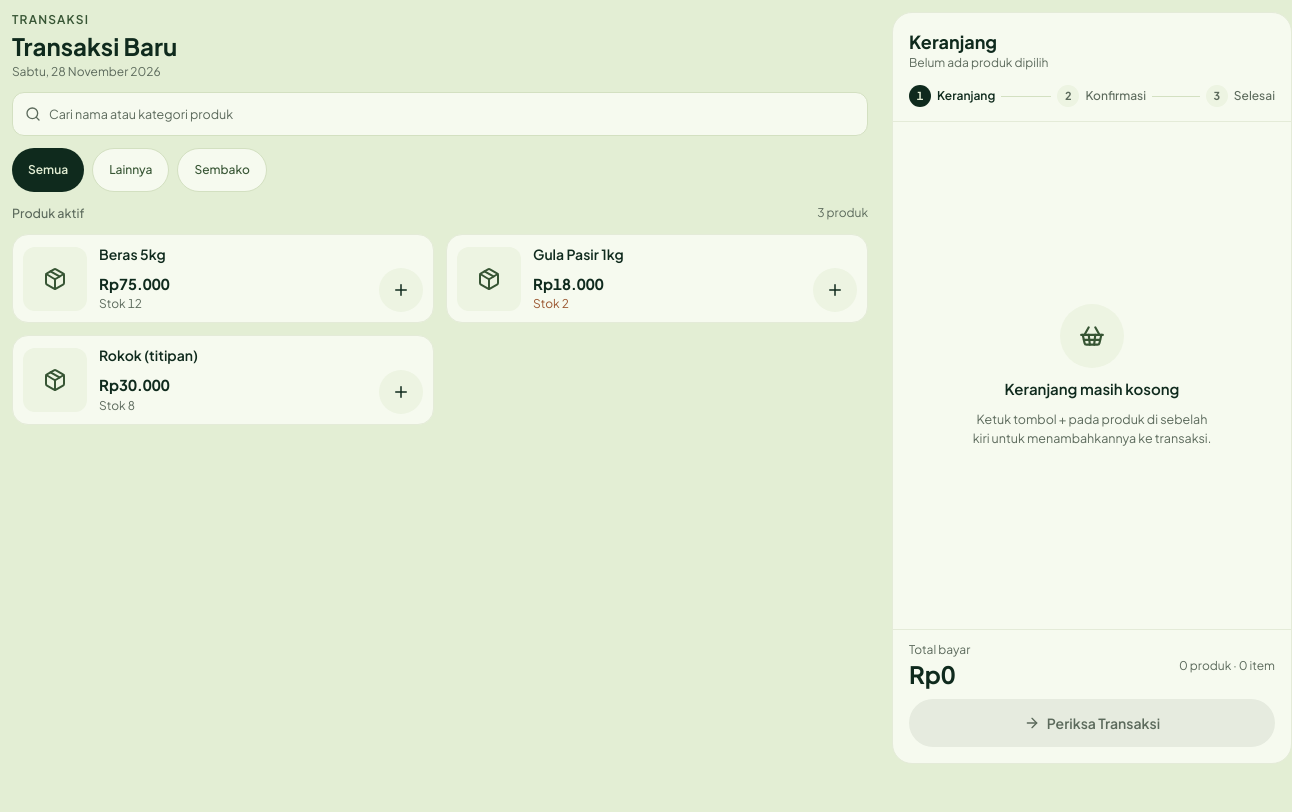
Test case: POS md+ (panel checkout) › utang di panel: nama pembeli wajib sebelum simpan
Step 1. Click the button named "Tambah Beras 5kg" → (401, 290), box [379, 268, 423, 312]
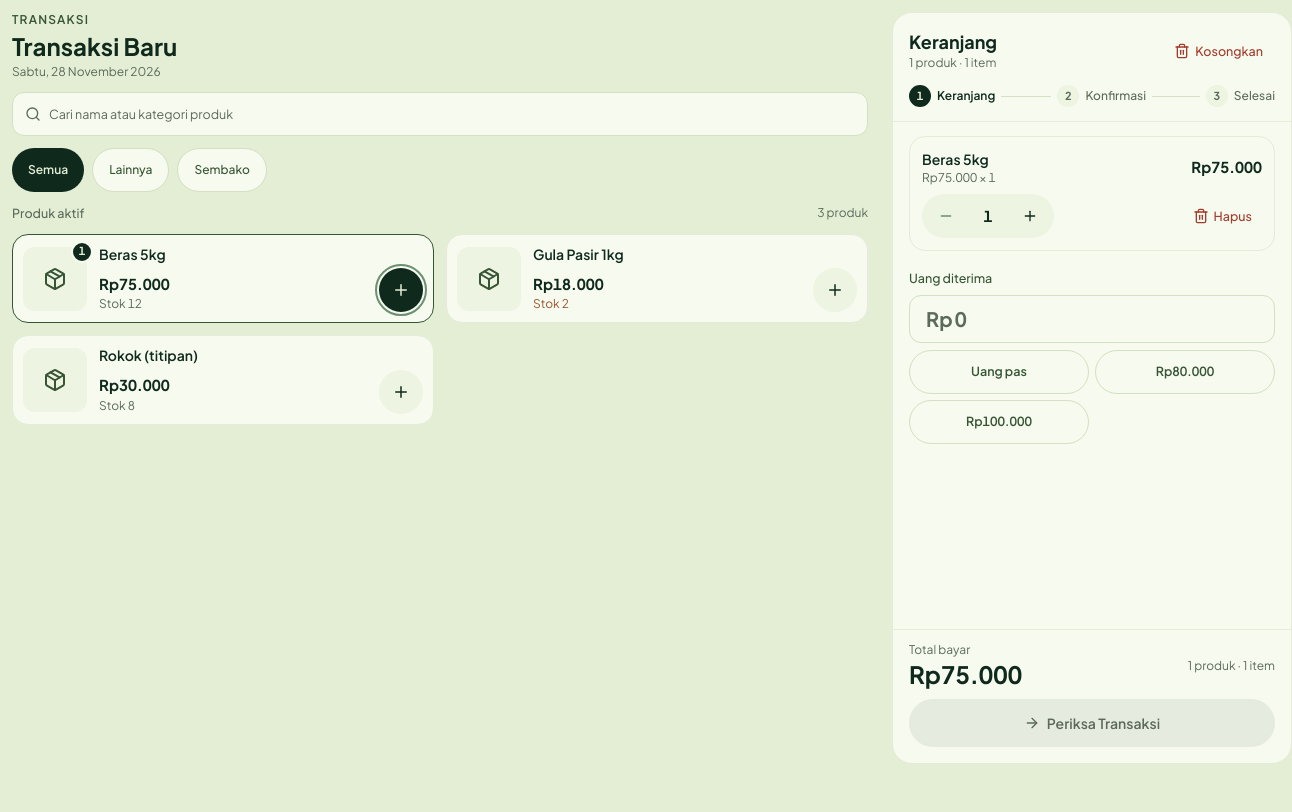
Step 2. Type "50000" into the field labelled "Uang diterima" → (1106, 319), box [955, 296, 1258, 342]
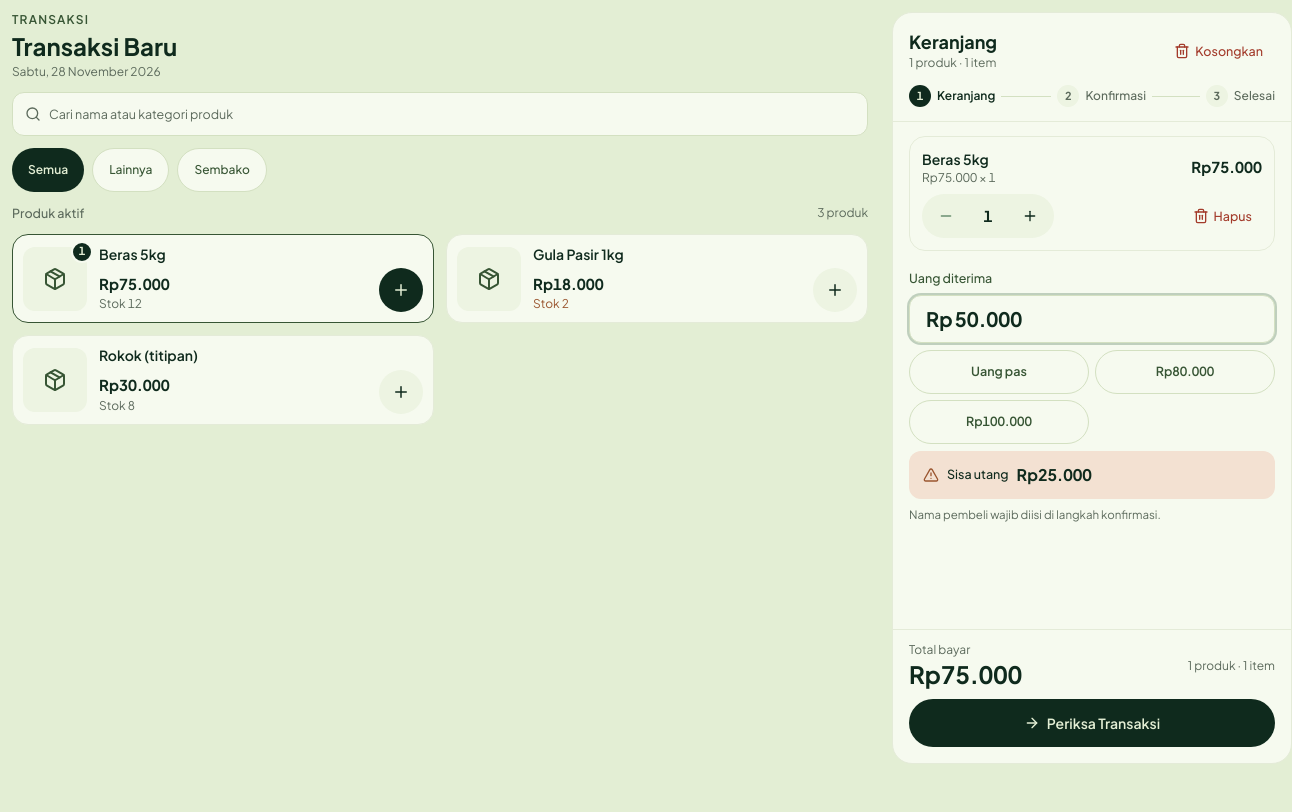
Expected: the text "Sisa utang" is shown, [947, 465, 1009, 484]
Step 3. Click the button "Periksa Transaksi" → (1092, 723), box [909, 699, 1275, 747]
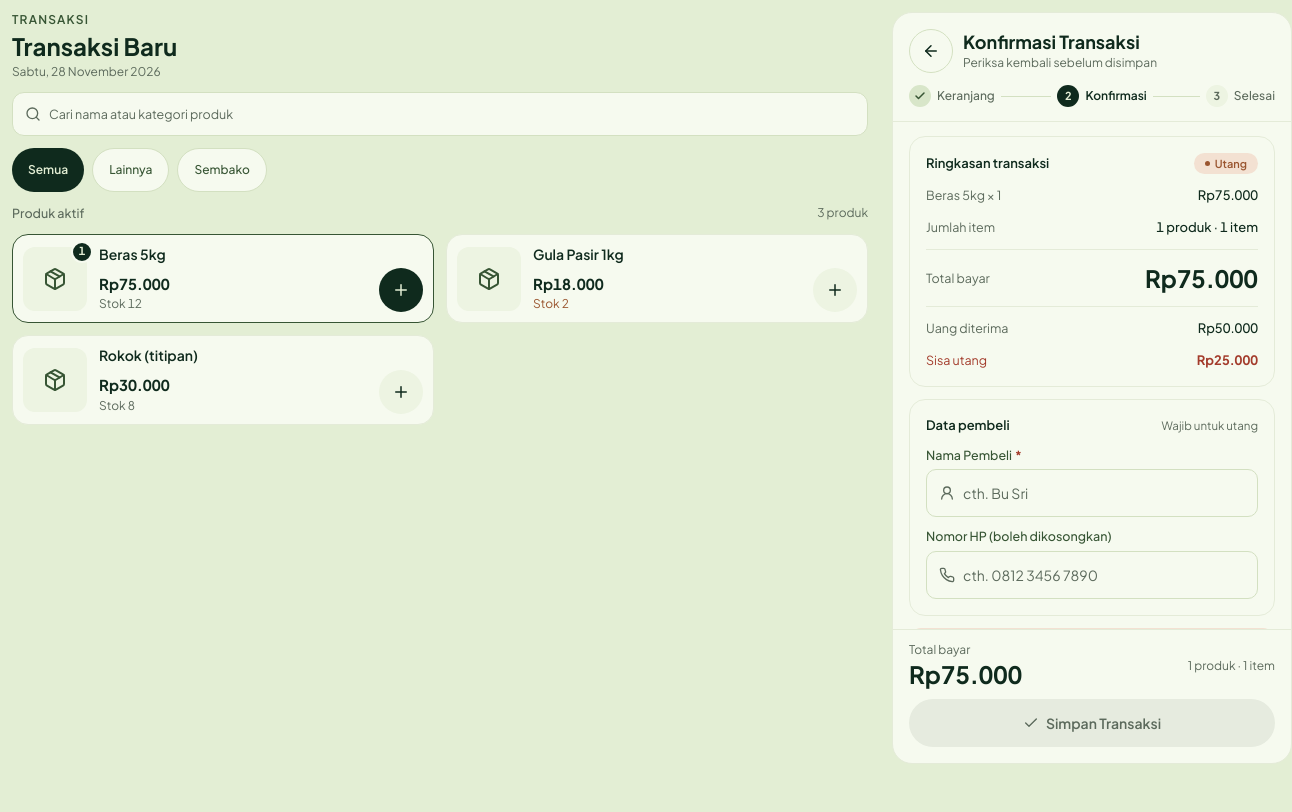
Step 4. Click the button "Simpan Transaksi" → (1092, 723), box [909, 699, 1275, 747]
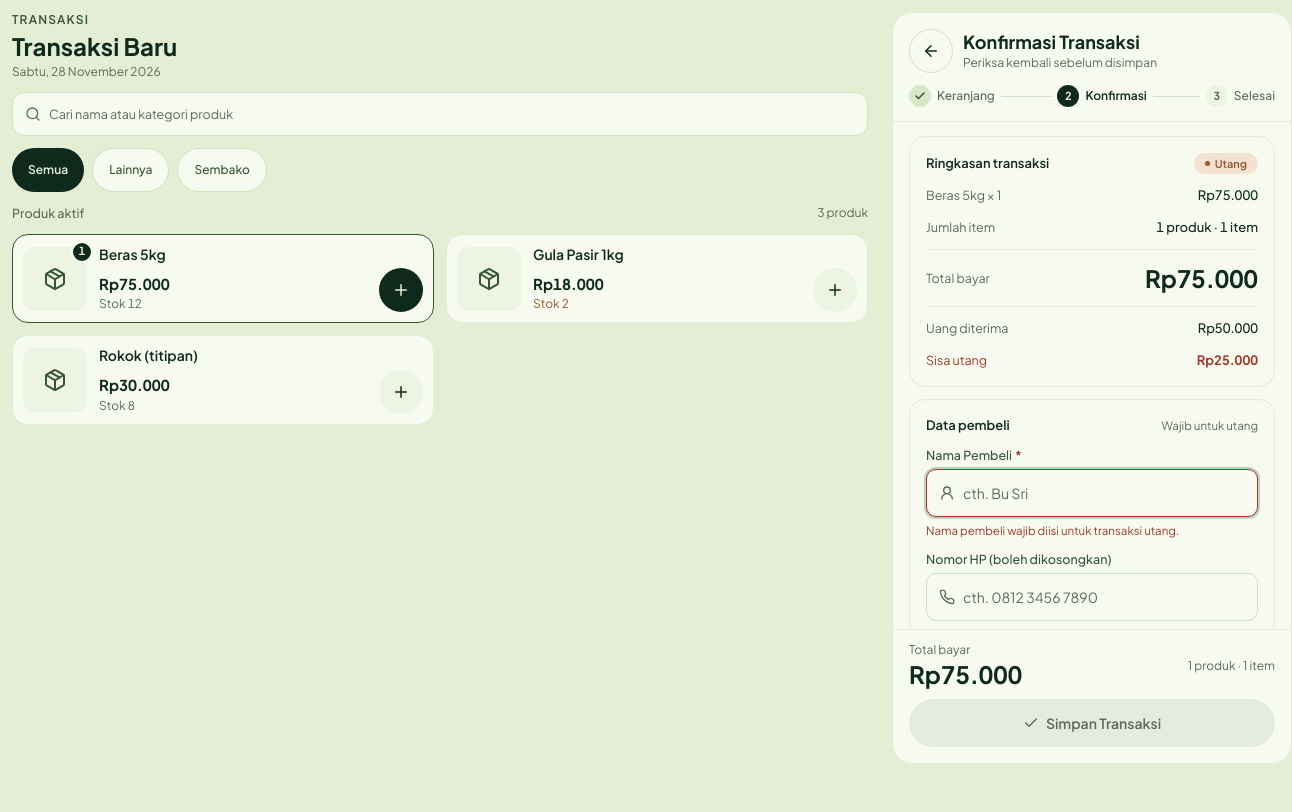
Expected: the text "Nama pembeli wajib diisi untuk transaksi utang." is shown, [926, 523, 1179, 538]
Step 5. Type "Pak Budi" into the field labelled "Nama Pembeli *" → (1104, 493), box [963, 470, 1245, 516]
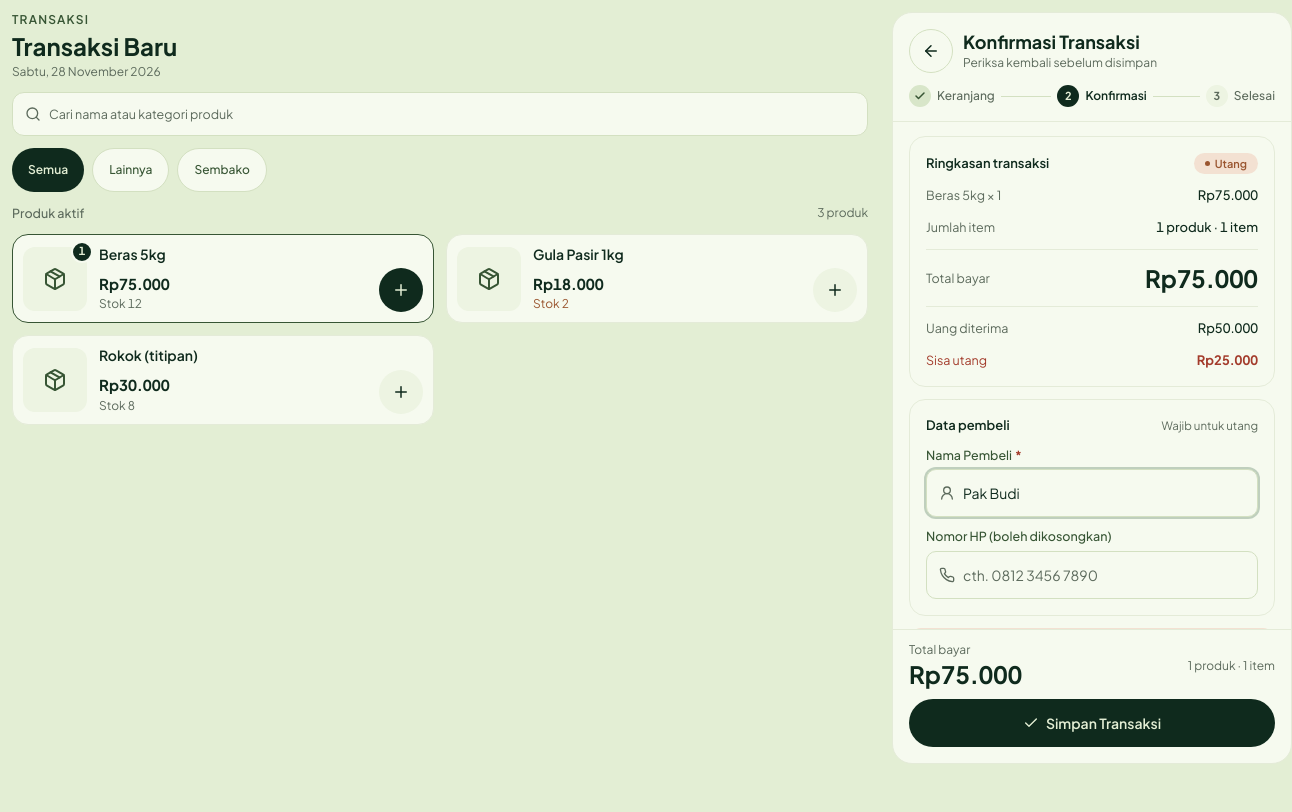
Step 6. Click the button "Simpan Transaksi" → (1092, 723), box [909, 699, 1275, 747]
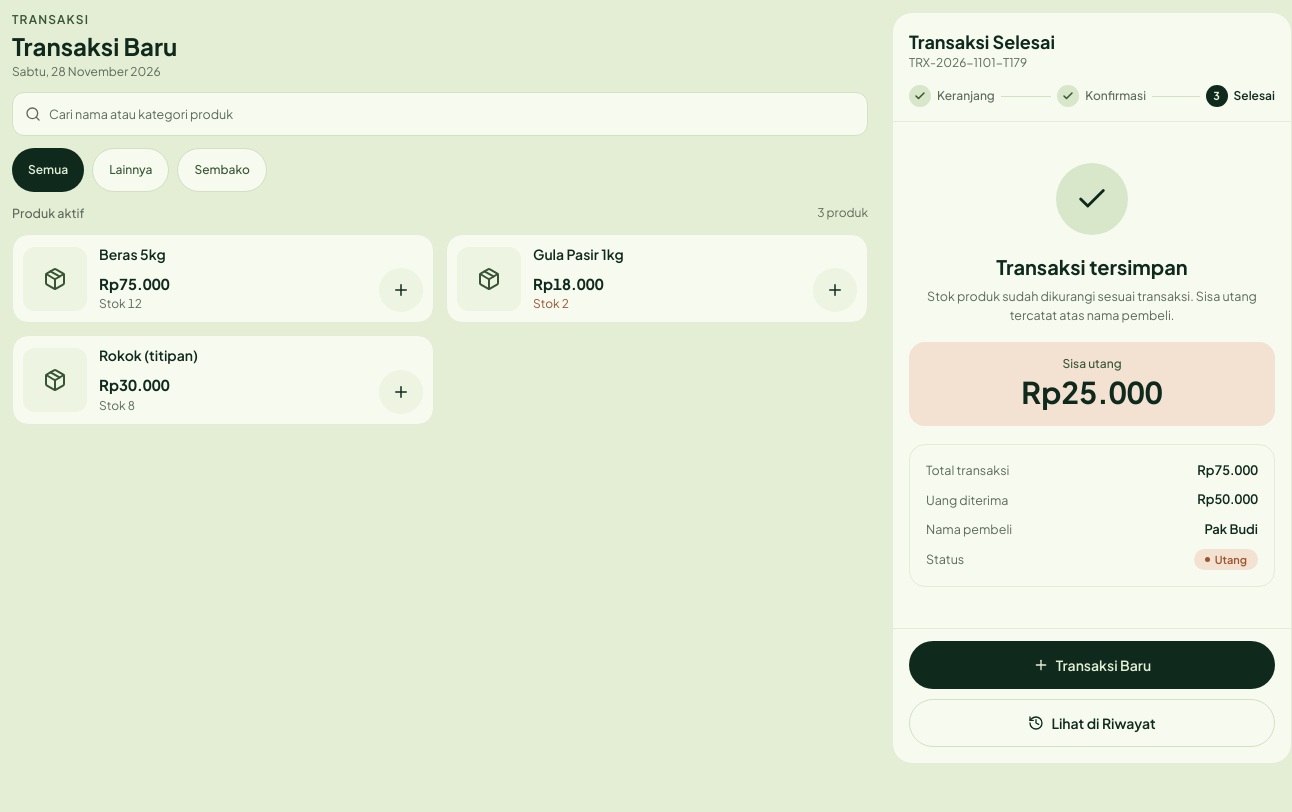
Expected: the heading "Transaksi tersimpan" is shown, [996, 253, 1188, 281]
Expected: the text "Pak Budi" is shown, [1204, 520, 1258, 539]
